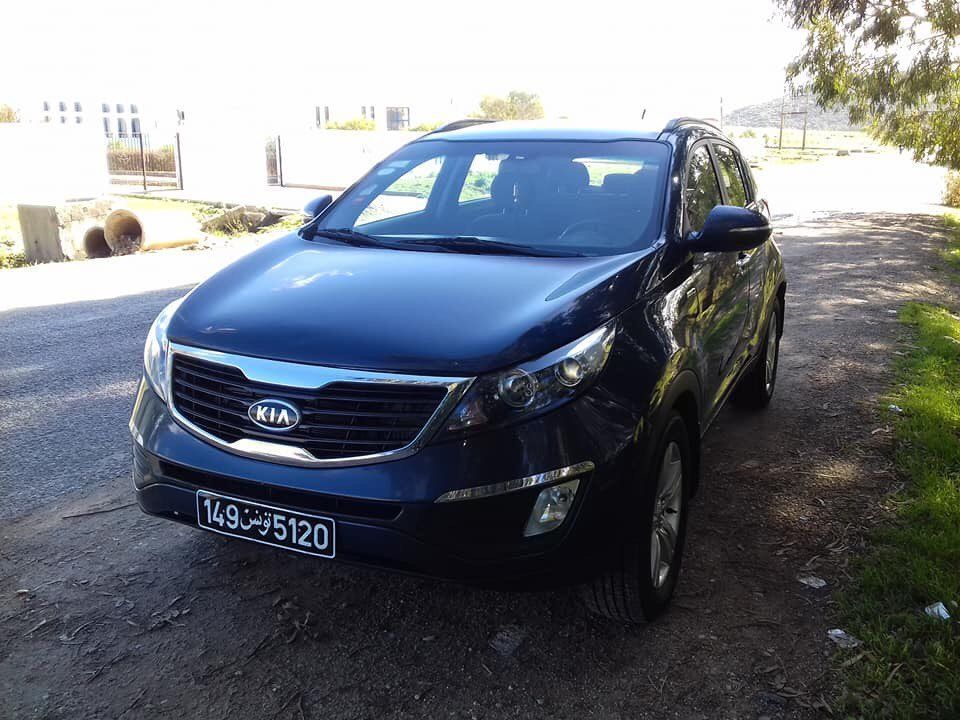LP: (195, 490, 338, 561)
